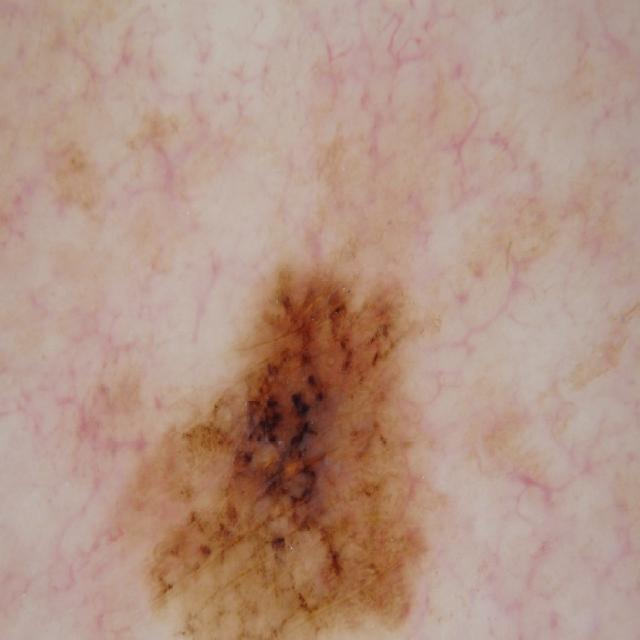Melanoma: (93, 220, 479, 640)
